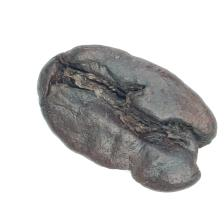NG: (109, 81, 217, 189), (47, 43, 112, 112)
